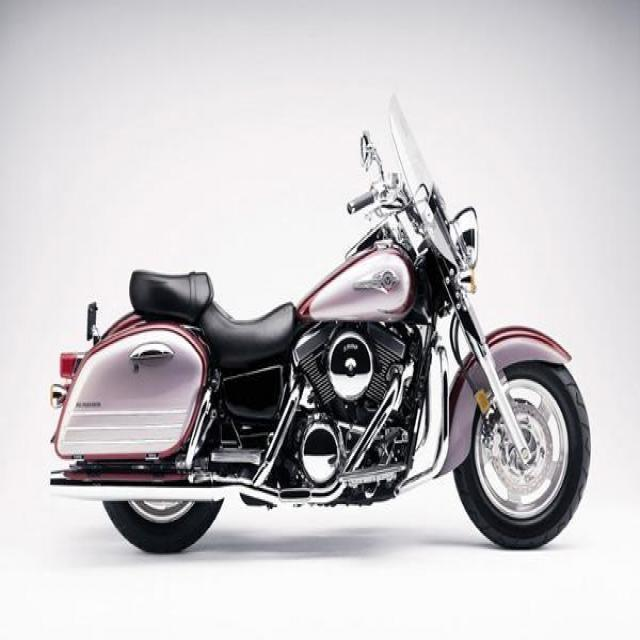Motorcycle: (42, 172, 596, 560)
